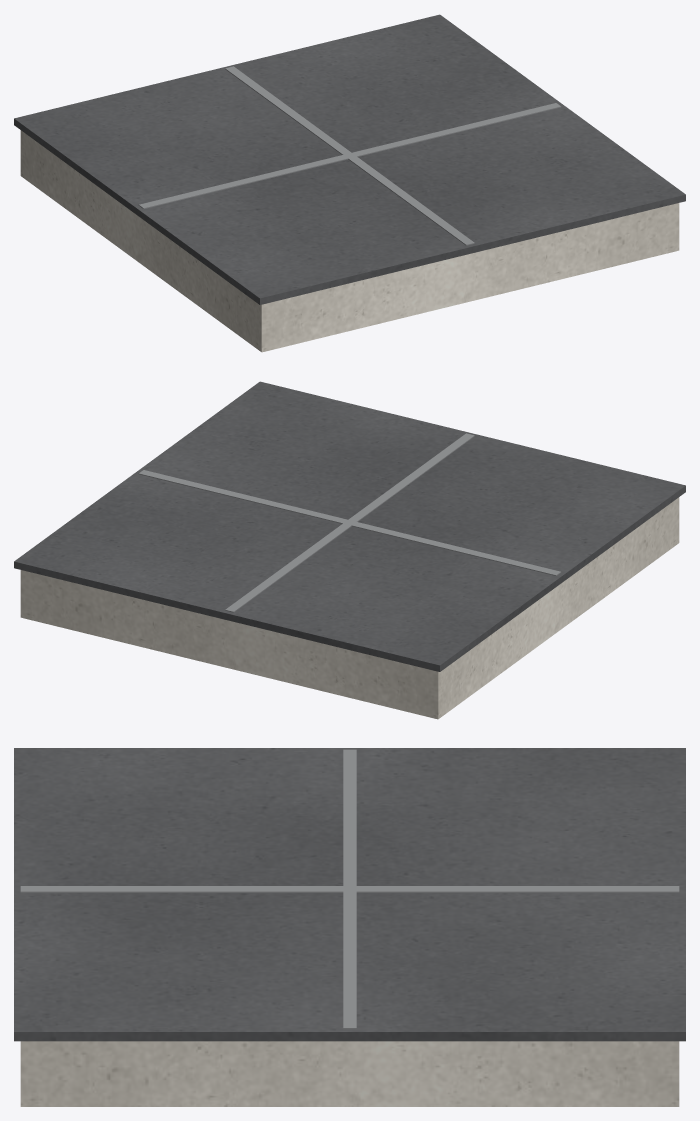
The model's file is floor_membrane_r.glb.
The picture shows the model from 3 angles, top to bottom: view 1: azimuth 30°, elevation 25°; view 2: azimuth 150°, elevation 25°; view 3: azimuth 270°, elevation 25°; orthographic projection. The views are drawn at different scales.
Visible parts, largest first — view 1: floor_membrane_r_membrane, floor_membrane_r_plaster, floor_membrane_r_seam; view 2: floor_membrane_r_membrane, floor_membrane_r_plaster, floor_membrane_r_seam; view 3: floor_membrane_r_membrane, floor_membrane_r_plaster, floor_membrane_r_seam.
Part boxes in pixels (x1,y1,x2,y2): floor_membrane_r_membrane: (14, 14, 685, 304); floor_membrane_r_plaster: (20, 130, 679, 352); floor_membrane_r_seam: (138, 66, 561, 245); floor_membrane_r_membrane: (14, 381, 685, 671); floor_membrane_r_plaster: (20, 497, 679, 719); floor_membrane_r_seam: (138, 433, 561, 612); floor_membrane_r_membrane: (14, 748, 685, 1041); floor_membrane_r_plaster: (20, 1041, 679, 1106); floor_membrane_r_seam: (20, 749, 679, 1029).
Size of the model in its own units: 2 by 0.259 by 2.
3 materials, 2 textured.
